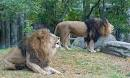lion: (2, 30, 64, 77), (55, 18, 115, 53)
